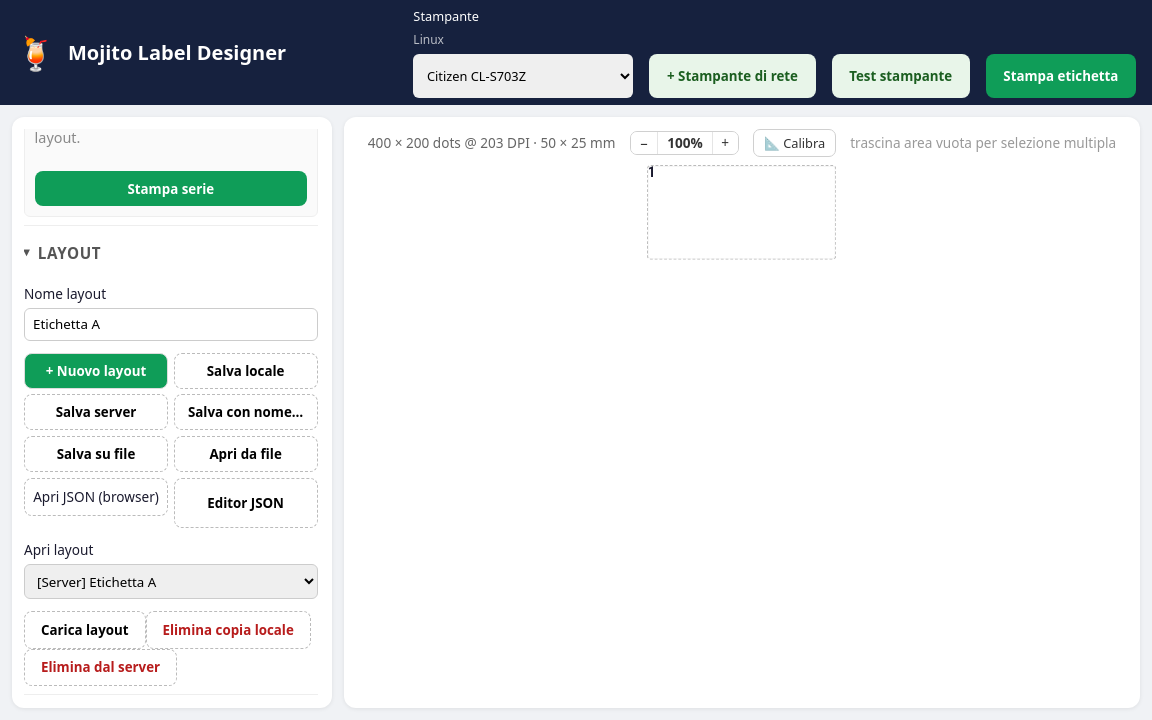
Test: LabelDesigner — salvataggio senza sovrascrivere › "Salva con nome…" › senza nome non salva e lo dice
The image size is (1152, 720).
(page scrolled)
Click the button "Salva con nome…" at (246,412), box [174,394,318,430]
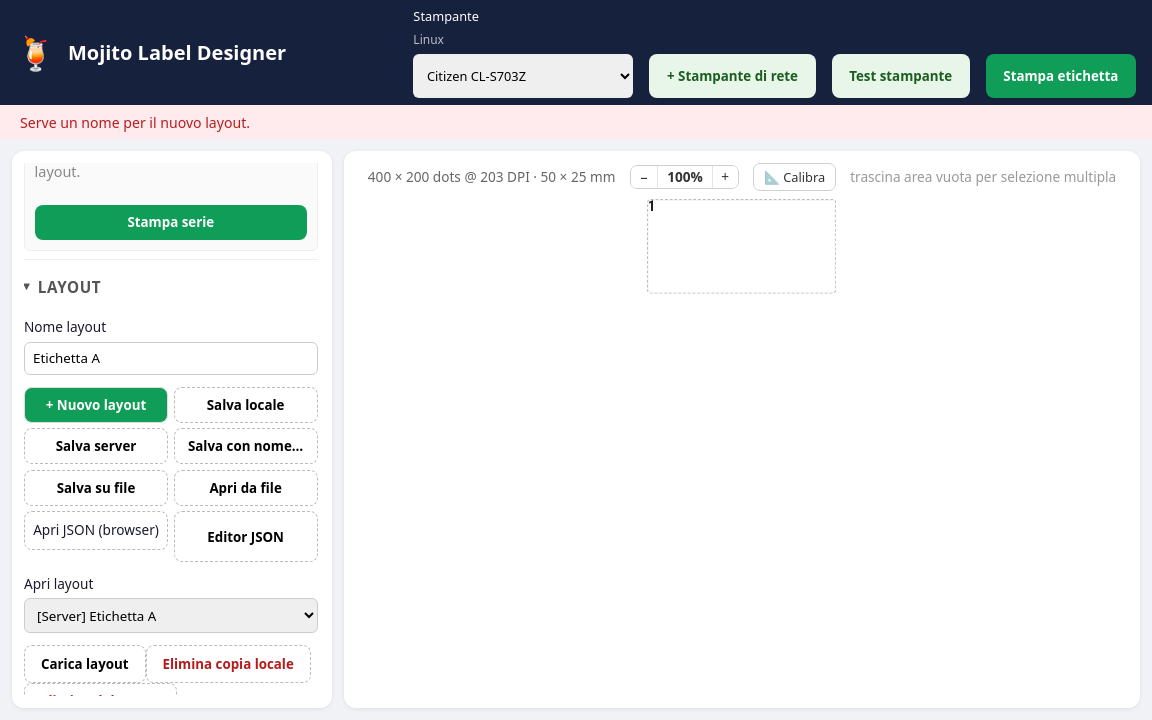
Result: the element with class "status" shows "nome" at [20,112,250,132]
